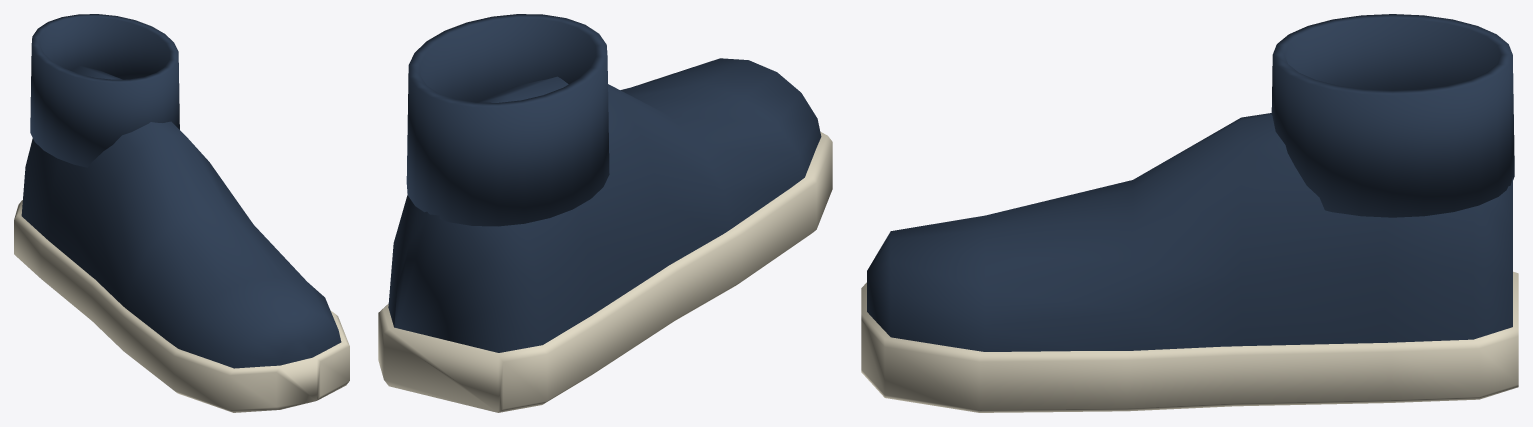
Rendered from SprintSemelleLeft.fbx.
3 views of the same model, side by side, from view 1: azimuth 30°, elevation 25°; view 2: azimuth 150°, elevation 25°; view 3: azimuth 270°, elevation 25° (orthographic). The views are drawn at different scales.
Visible parts, largest first — view 1: SprintSemelleLeft-ShoeNavy, SprintSemelleLeft-ShoeCream; view 2: SprintSemelleLeft-ShoeNavy, SprintSemelleLeft-ShoeCream; view 3: SprintSemelleLeft-ShoeNavy, SprintSemelleLeft-ShoeCream.
Part boxes in pixels (x1,y1,x2,y2): SprintSemelleLeft-ShoeNavy: (21, 14, 341, 368); SprintSemelleLeft-ShoeCream: (14, 200, 349, 412); SprintSemelleLeft-ShoeNavy: (388, 14, 821, 352); SprintSemelleLeft-ShoeCream: (378, 132, 832, 412); SprintSemelleLeft-ShoeNavy: (867, 14, 1514, 351); SprintSemelleLeft-ShoeCream: (861, 271, 1518, 412).
Size of the model in its own units: 13.4 by 17 by 33.4.
